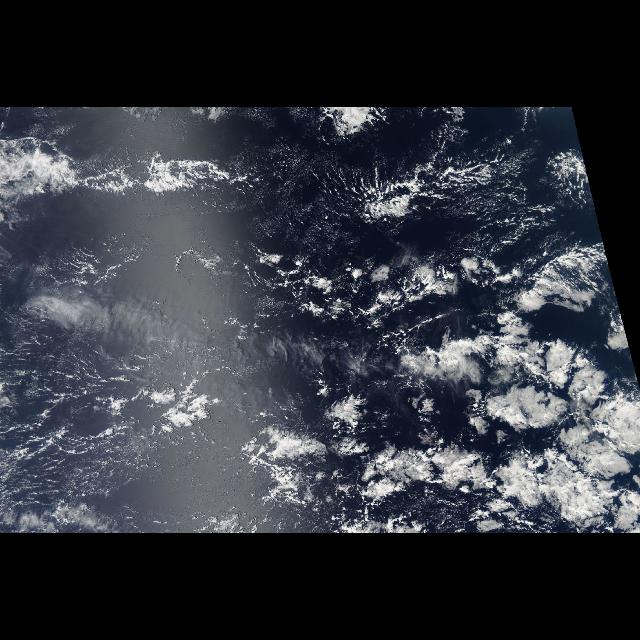Fish: (15, 136, 517, 230)
Flower: (378, 305, 634, 529)
Sugar: (1, 225, 256, 527), (266, 150, 550, 246)
